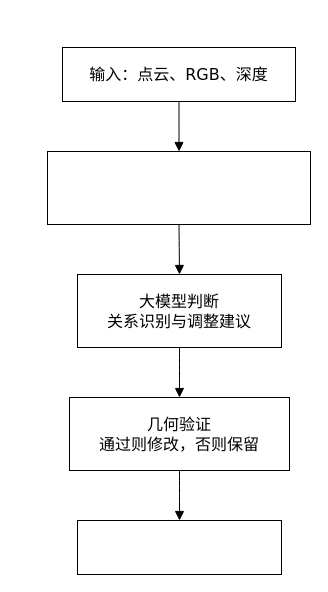
Image size: 328x592. Some labels were removed from this diagram. Each missing label, with the box of its shape:
候选与证据 SpatialLM＋CAGE＋局部观测: (46, 150, 310, 224)
输出结构与修改记录: (76, 520, 282, 574)
